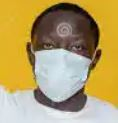with_facemask: (37, 48, 85, 95)
